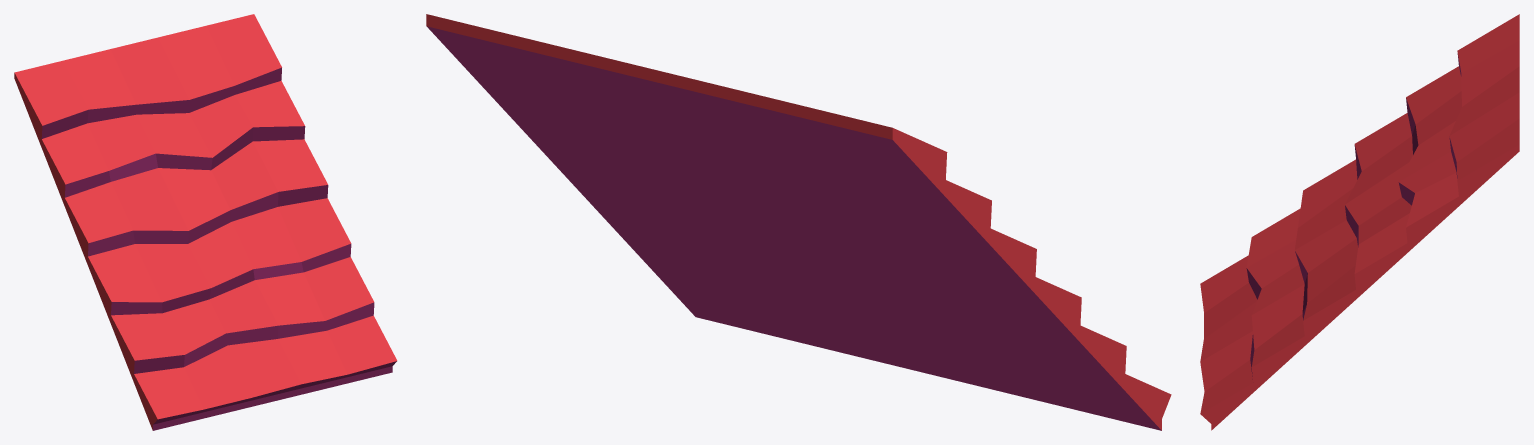
Rendered from Roof 01 Mid Angle.fbx.
The picture shows the model from 3 angles, left to right: view 1: azimuth 30°, elevation 25°; view 2: azimuth 150°, elevation 25°; view 3: azimuth 270°, elevation 25°; orthographic projection. The views are drawn at different scales.
Parts seen in each view (by area): view 1: Roof 01 Mid Angle; view 2: Roof 01 Mid Angle; view 3: Roof 01 Mid Angle.
Boxes of the visible parts, x1,y1,x2,y2 form: Roof 01 Mid Angle: [14, 14, 397, 430]; Roof 01 Mid Angle: [426, 14, 1171, 430]; Roof 01 Mid Angle: [1200, 14, 1519, 430].
Bounding box in the file's own units: 400 × 410 × 414.
